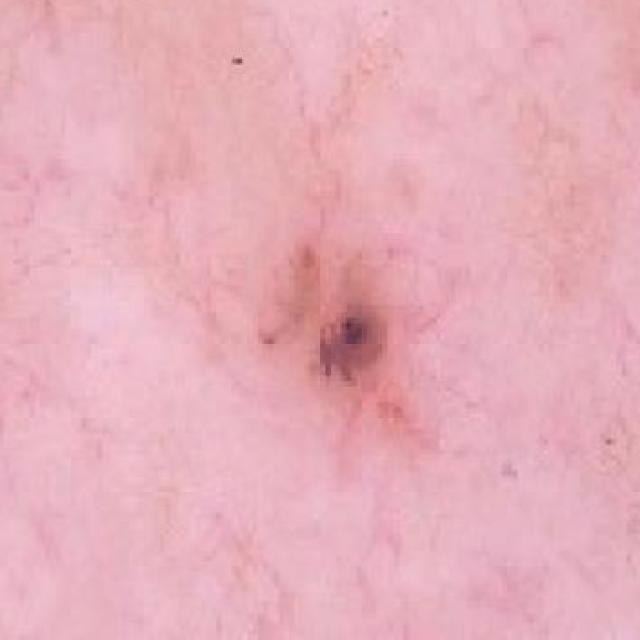BCC: (200, 185, 505, 437)
